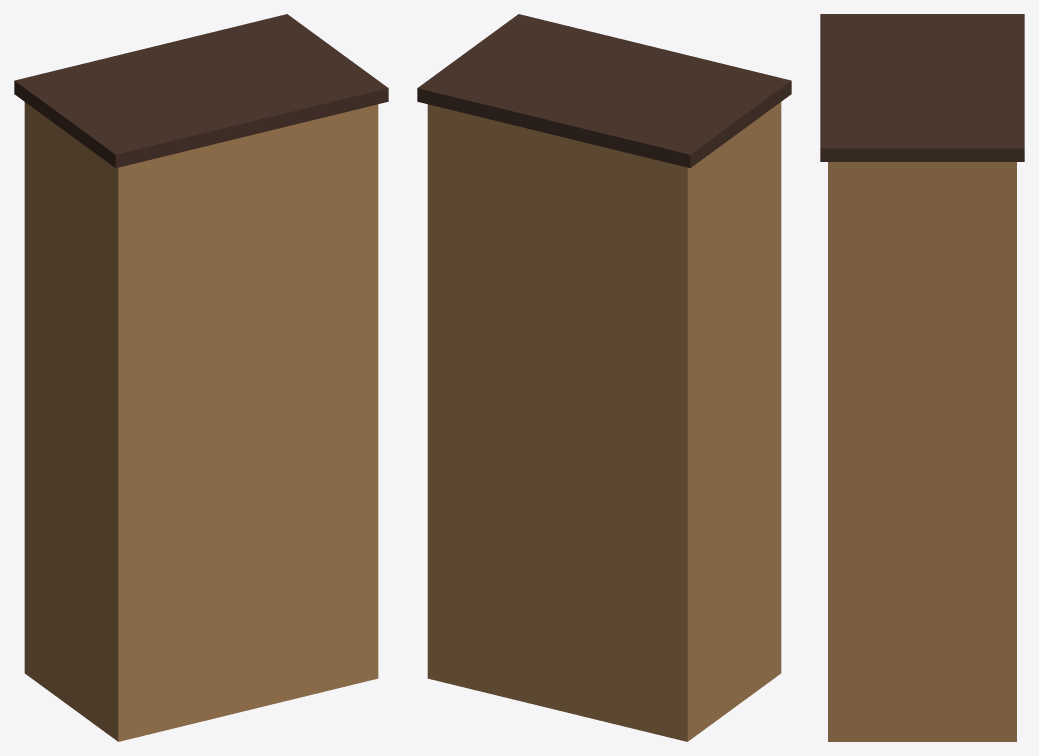
3 renders of one model, left to right at view 1: azimuth 30°, elevation 25°; view 2: azimuth 150°, elevation 25°; view 3: azimuth 270°, elevation 25°, orthographic.
Visible parts, largest first — view 1: equipo_imaging; view 2: equipo_imaging; view 3: equipo_imaging.
Boxes of the visible parts, box(x1,y1,x2,y2) form: equipo_imaging: box(14, 14, 388, 741); equipo_imaging: box(417, 14, 791, 741); equipo_imaging: box(820, 14, 1024, 741).
Size of the model in its own units: 0.84 by 0.54 by 1.74.
